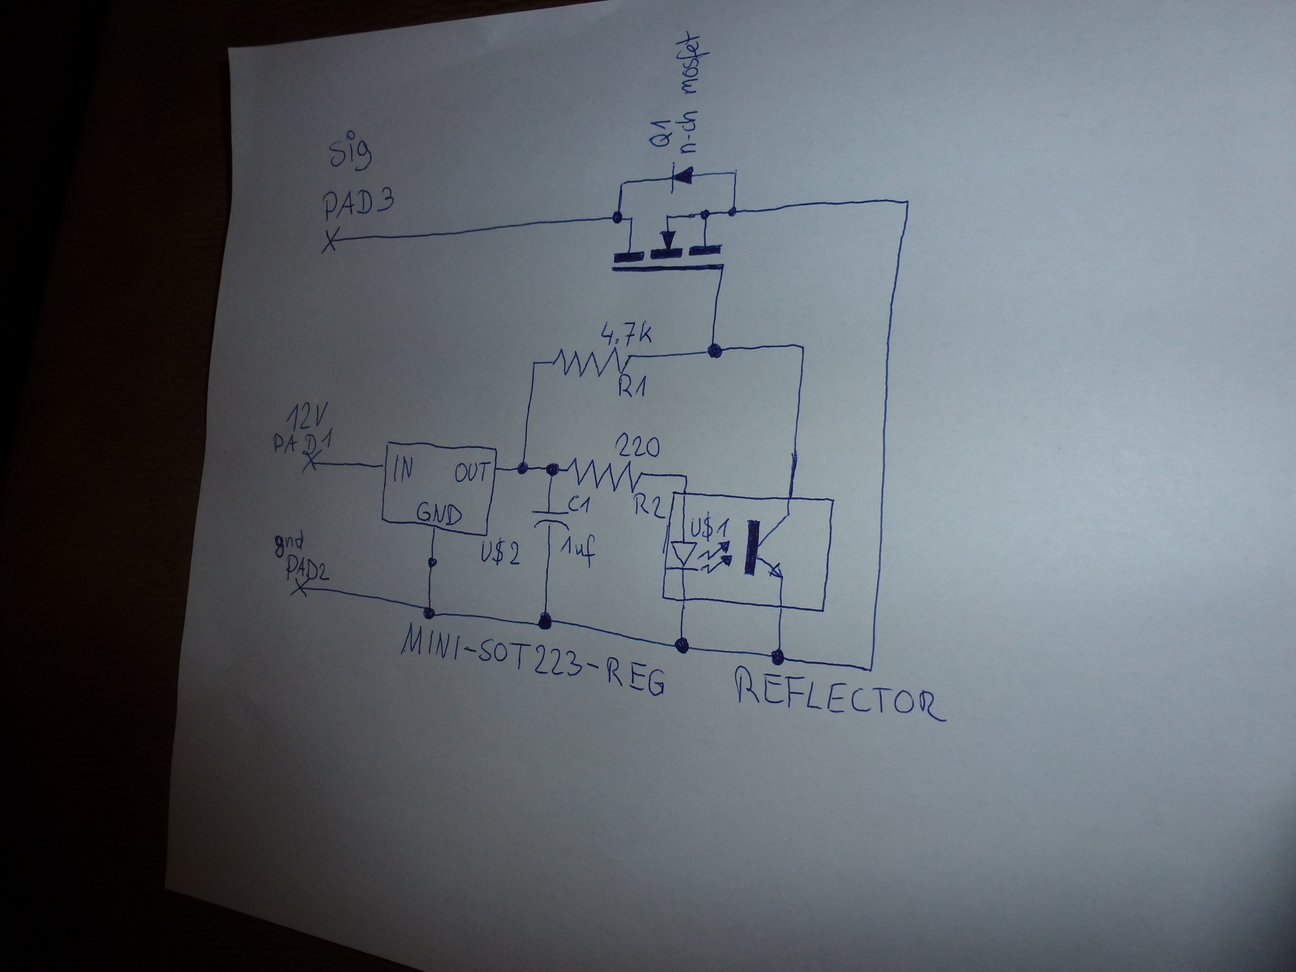capacitor.unpolarized: (527, 509, 568, 531)
diode: (661, 160, 698, 195)
integrated_circuit: (659, 489, 837, 615)
junction: (535, 607, 555, 632), (671, 634, 691, 657), (705, 340, 725, 362), (767, 645, 786, 666), (545, 460, 562, 478), (898, 194, 914, 210), (422, 603, 438, 620), (862, 660, 878, 675), (794, 340, 809, 354), (515, 459, 529, 476), (611, 211, 625, 225), (726, 205, 738, 218), (617, 178, 629, 189), (729, 166, 740, 177), (680, 471, 690, 481), (529, 358, 539, 368)
optocoupler: (666, 511, 792, 582)
resistor: (549, 345, 635, 383), (562, 456, 643, 496)
terminal: (288, 577, 311, 598), (320, 229, 339, 255), (299, 451, 320, 474)
text: (396, 638, 667, 698), (732, 664, 948, 725), (664, 27, 708, 123), (319, 184, 395, 221), (647, 97, 698, 151), (323, 128, 373, 173), (272, 425, 334, 456), (601, 318, 657, 346), (609, 359, 648, 399), (612, 430, 663, 459), (285, 398, 329, 432), (689, 509, 731, 542), (560, 532, 598, 567), (478, 538, 522, 567), (414, 500, 464, 526), (286, 555, 330, 582), (271, 526, 305, 557), (631, 491, 664, 520), (453, 461, 485, 484), (391, 454, 416, 480), (567, 492, 595, 516)
transistor: (609, 205, 727, 276)
voltage.dc_regulator: (378, 437, 499, 539)
